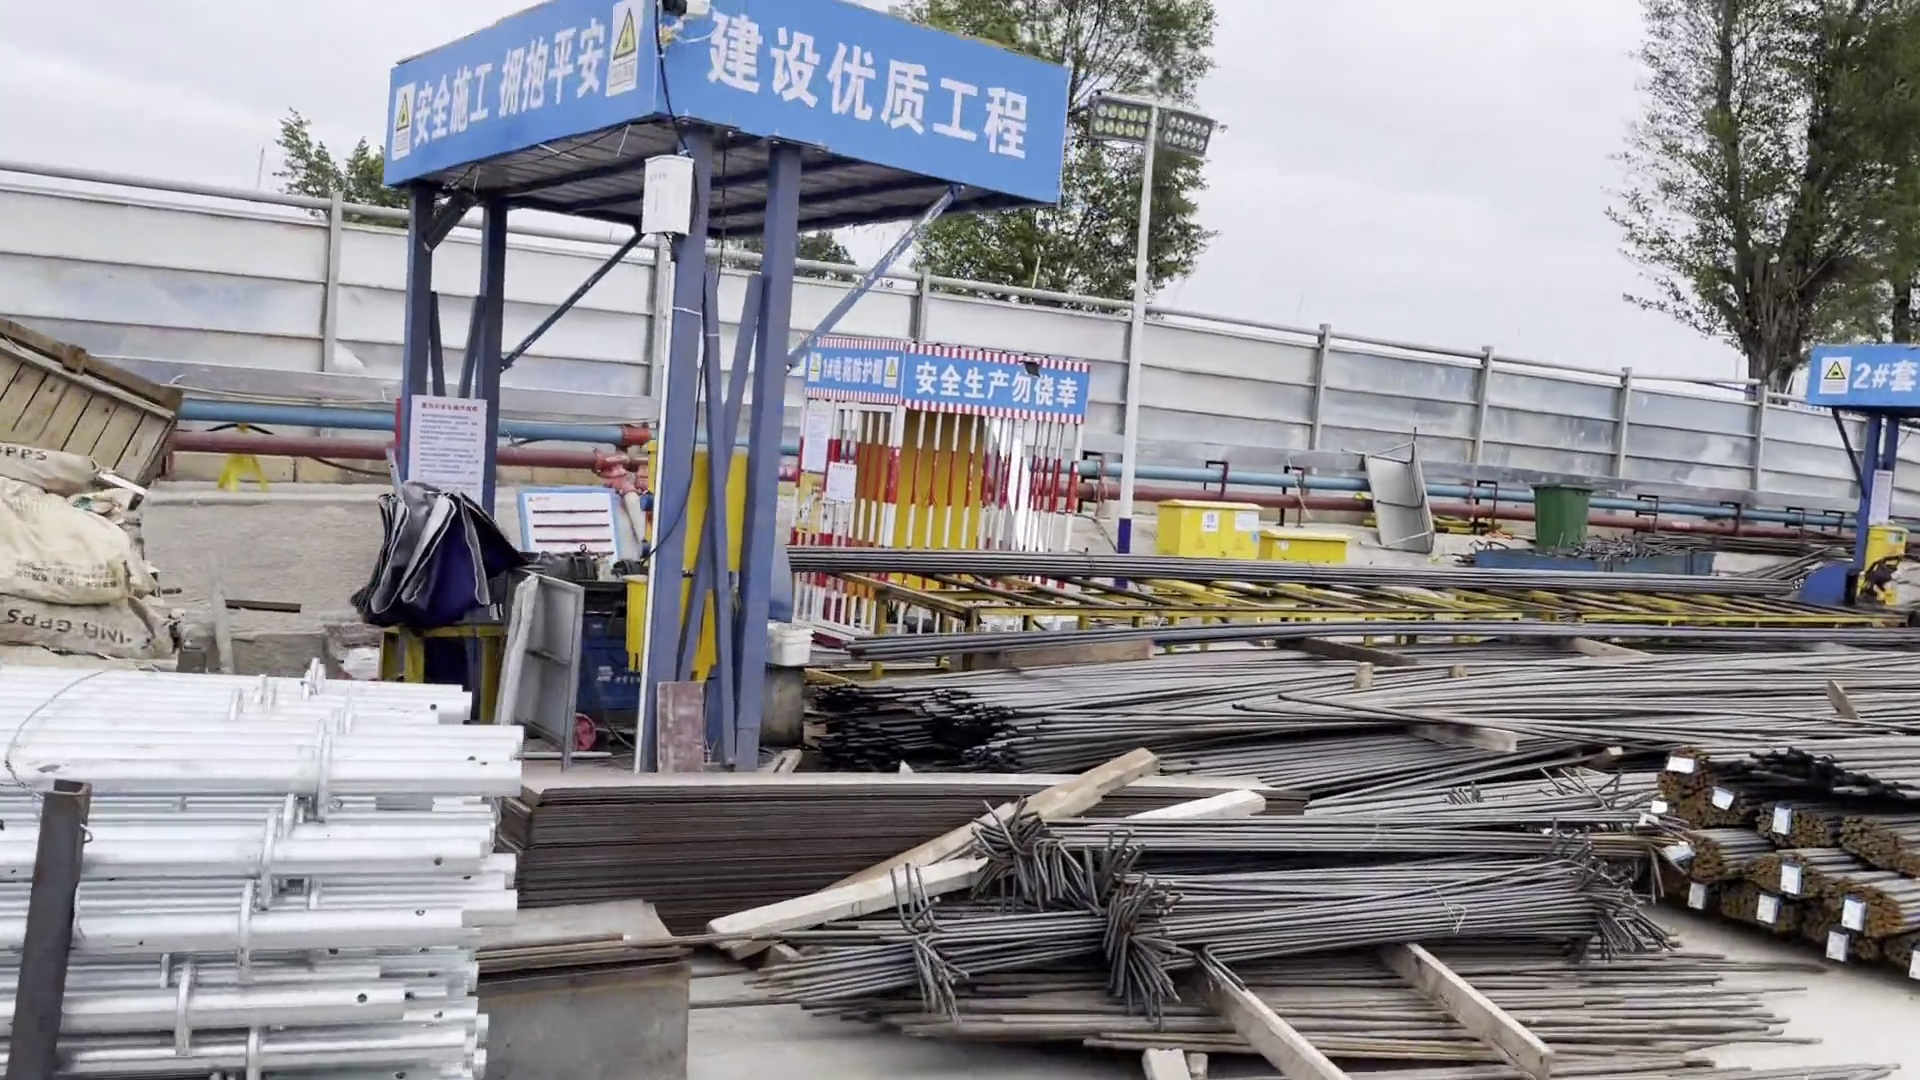ebox: (626, 446, 774, 687), (1154, 491, 1259, 567), (1255, 520, 1352, 568), (1863, 522, 1907, 593)
rebar: (767, 783, 1684, 1017), (860, 632, 1920, 795), (1669, 735, 1920, 1001), (764, 545, 1796, 583)
scaffold: (1, 657, 558, 1069)
slogan: (723, 11, 1036, 165), (407, 11, 642, 149), (920, 357, 1083, 413)
